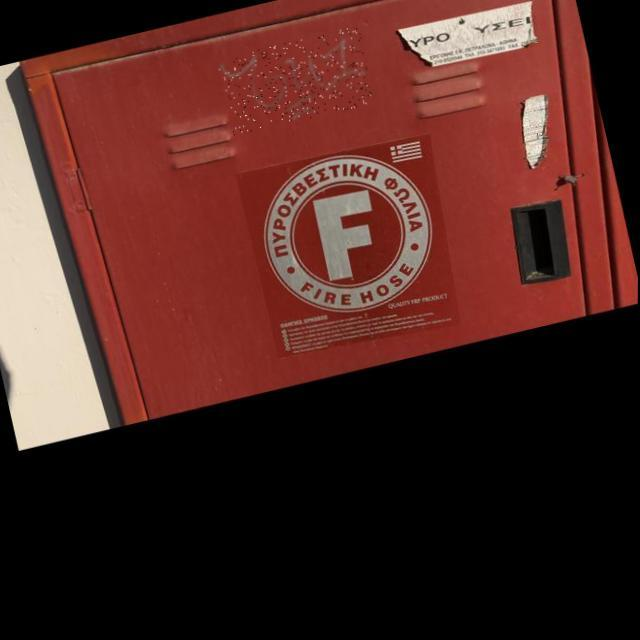-: (216, 26, 376, 136)
